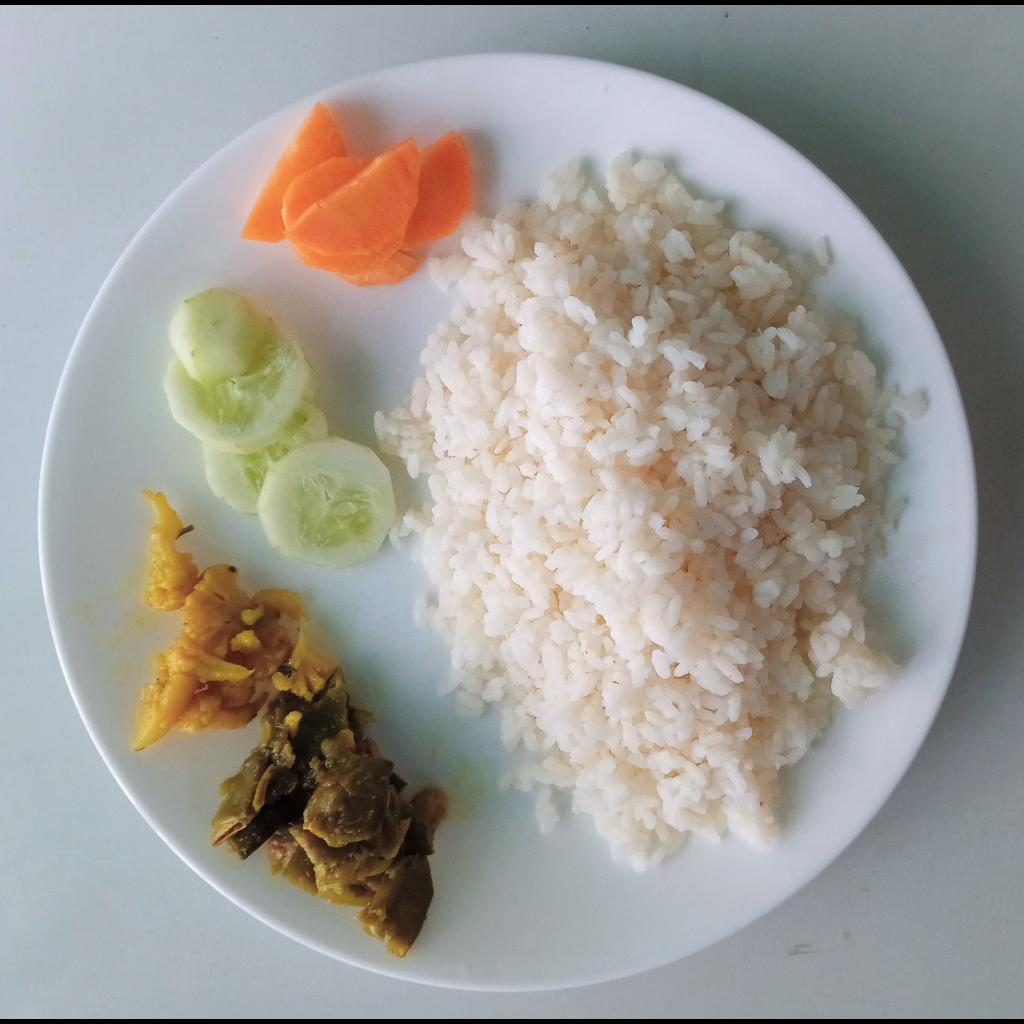carrot: (241, 103, 473, 289)
cauliflower: (130, 487, 333, 750)
cucumber: (164, 288, 397, 569)
rice: (376, 153, 927, 868)
shim: (208, 673, 446, 956)
